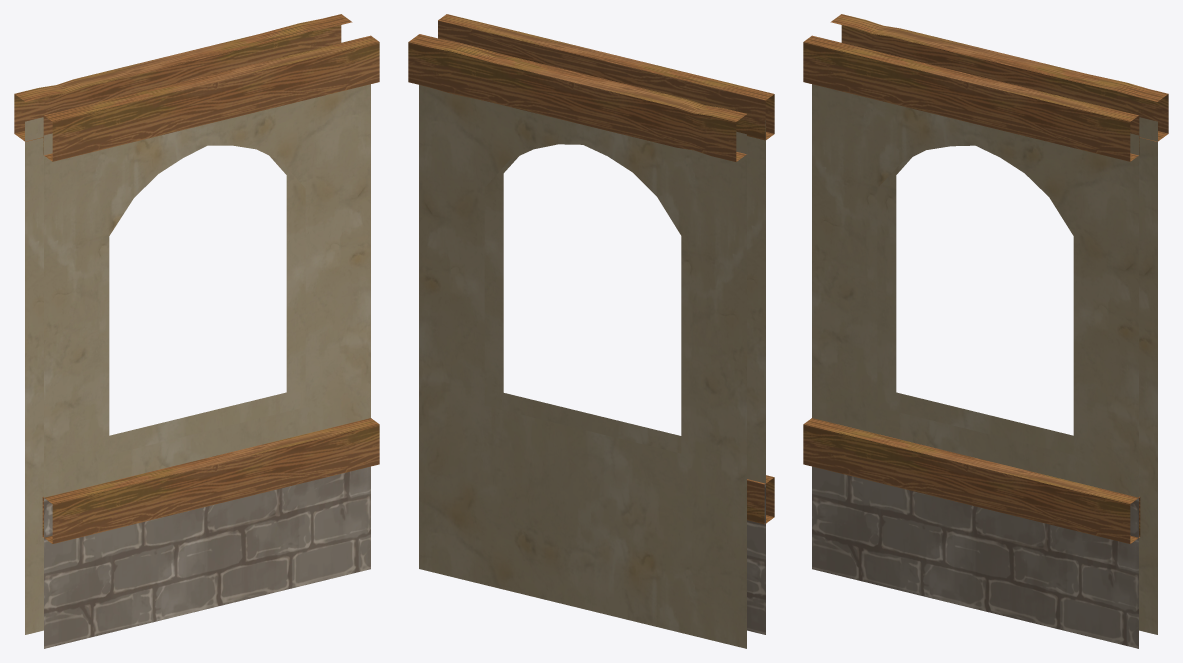
File: Wall_Plaster_Window_Wide_Round.glb
3 renders of one model, left to right at view 1: azimuth 30°, elevation 25°; view 2: azimuth 150°, elevation 25°; view 3: azimuth 330°, elevation 25°, orthographic.
Visible parts, largest first — view 1: Wall_Plaster_Window_Wide_Round; view 2: Wall_Plaster_Window_Wide_Round; view 3: Wall_Plaster_Window_Wide_Round.
Boxes of the visible parts, left/top/right/bottom form: Wall_Plaster_Window_Wide_Round: left=14, top=14, right=379, bottom=648; Wall_Plaster_Window_Wide_Round: left=408, top=14, right=774, bottom=648; Wall_Plaster_Window_Wide_Round: left=803, top=14, right=1168, bottom=648.
Bounding box in the file's own units: 2 × 3.12 × 0.4065.
3 materials, 3 textured.
